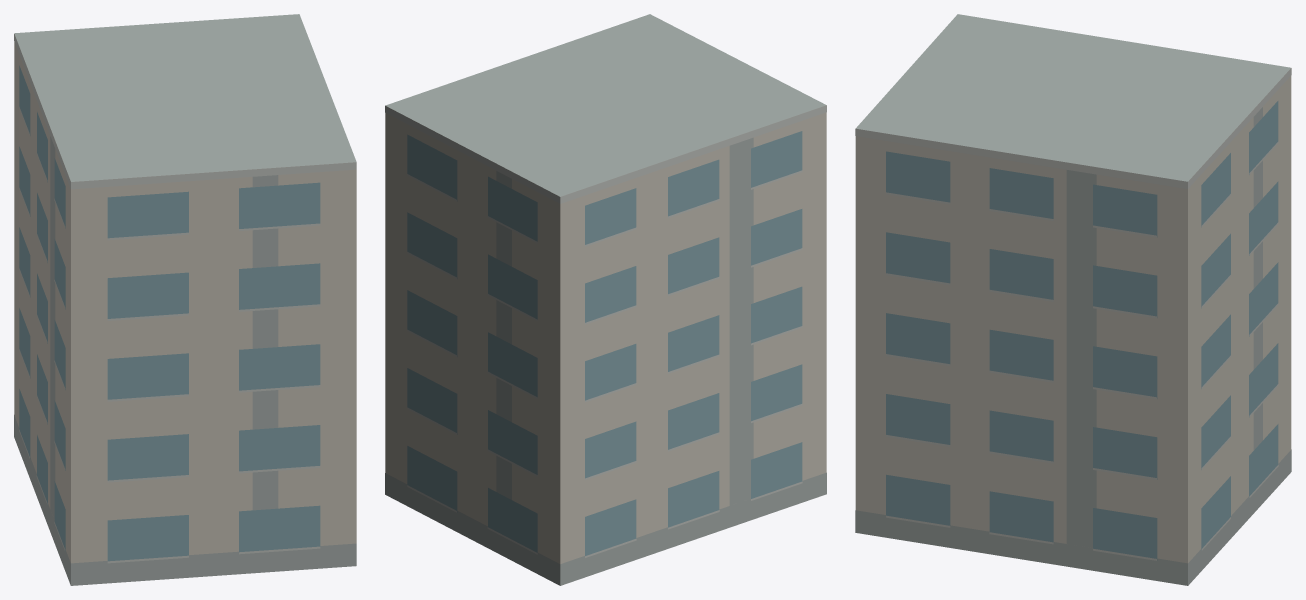
File: survey-upis-32878844.glb
The picture shows the model from 3 angles, left to right: view 1: azimuth 30°, elevation 25°; view 2: azimuth 150°, elevation 25°; view 3: azimuth 270°, elevation 25°; orthographic projection. The views are drawn at different scales.
Visible parts, largest first — view 1: survey-upis-32878844.tmp; view 2: survey-upis-32878844.tmp; view 3: survey-upis-32878844.tmp.
Part boxes in pixels (x1=…): survey-upis-32878844.tmp: x1=14, y1=14, x2=356, y2=585; survey-upis-32878844.tmp: x1=385, y1=14, x2=826, y2=585; survey-upis-32878844.tmp: x1=855, y1=14, x2=1291, y2=585.
Size of the model in its own units: 11.85 by 13.3 by 13.01.
